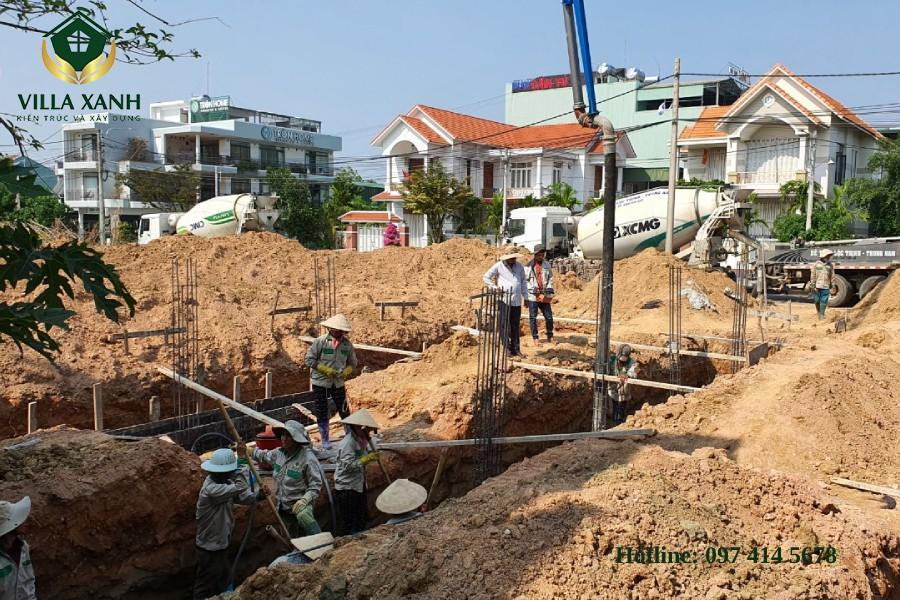Gloves: (362, 448, 381, 467), (287, 496, 306, 514), (317, 365, 337, 379), (338, 364, 352, 380)
Helmet: (0, 498, 38, 536), (271, 419, 309, 452), (200, 447, 238, 472), (337, 407, 379, 429), (319, 313, 352, 332), (504, 243, 520, 260), (532, 244, 550, 256), (618, 343, 631, 356), (819, 248, 834, 258)
Person: (191, 447, 268, 599), (235, 419, 325, 538), (303, 313, 358, 449), (332, 407, 381, 536), (482, 247, 528, 358), (0, 495, 37, 599), (524, 244, 557, 347), (607, 343, 638, 423), (809, 248, 835, 320)
no-vest: (270, 448, 316, 507), (197, 481, 232, 551), (336, 434, 367, 491), (0, 552, 38, 594), (315, 335, 351, 379), (496, 264, 521, 305), (527, 265, 552, 300)
